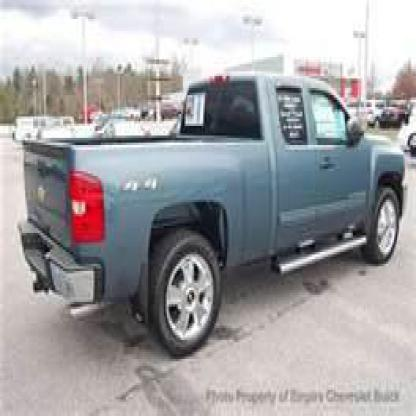Vehicle: (17, 64, 408, 364)
